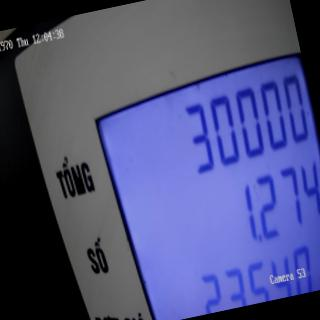screen: (79, 37, 320, 320)
